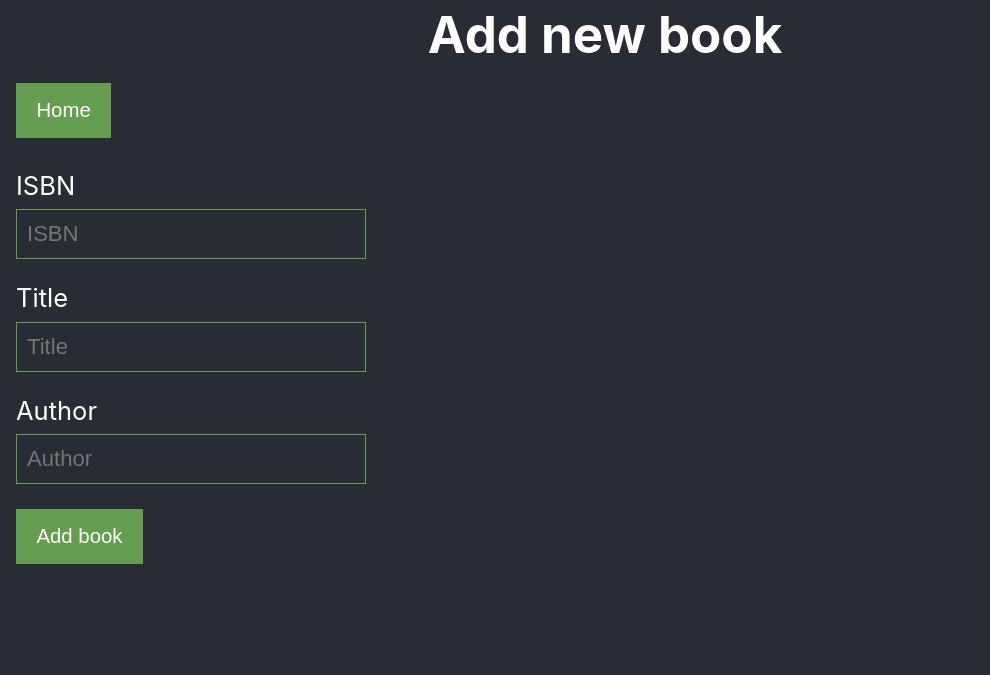
Test case: <AddBook /> › should add new book
The width and height of the screenshot is (990, 675).
Type "123123" into the field with test id "isbn" at x=191, y=234, box 16,209 -> 366,259
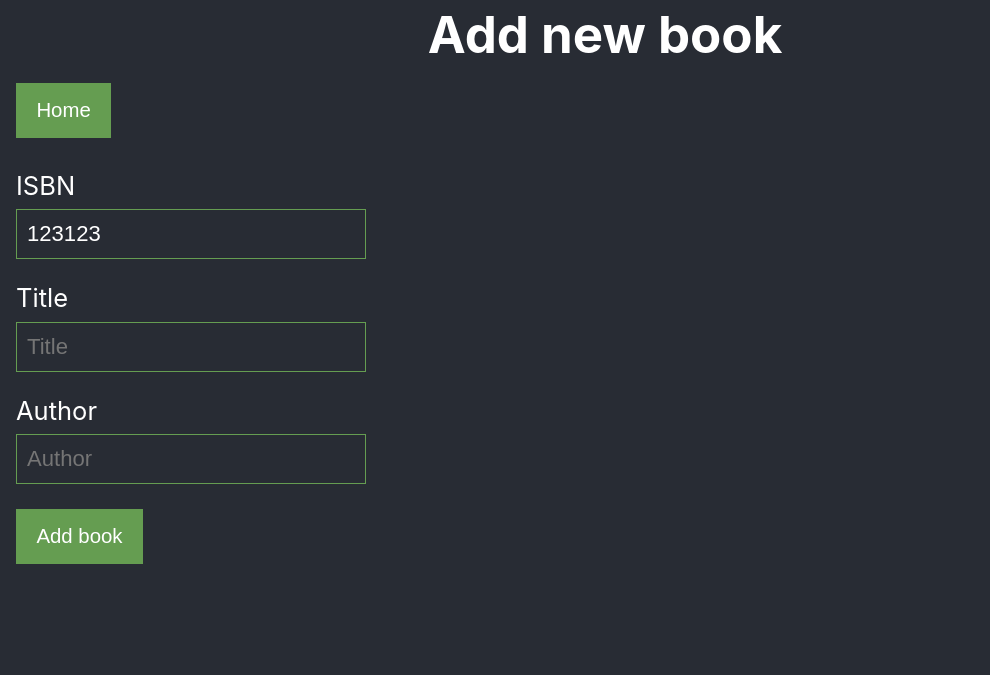
Type "Test Title" into the field with test id "title" at x=191, y=346, box 16,322 -> 366,372
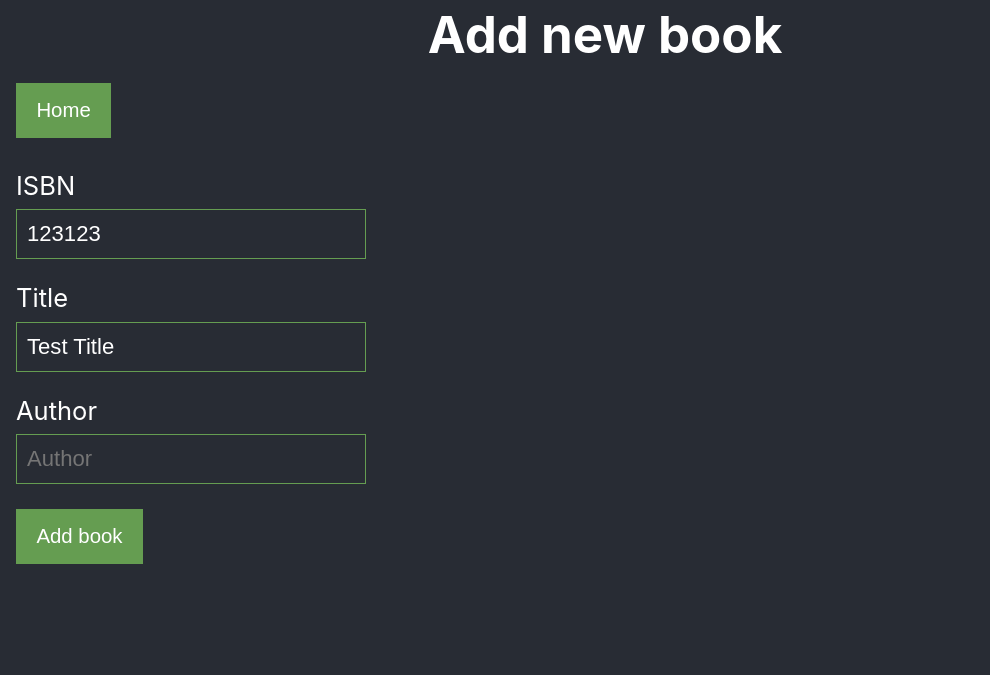
Type "Test Author" into the field with test id "author" at x=191, y=459, box 16,434 -> 366,484
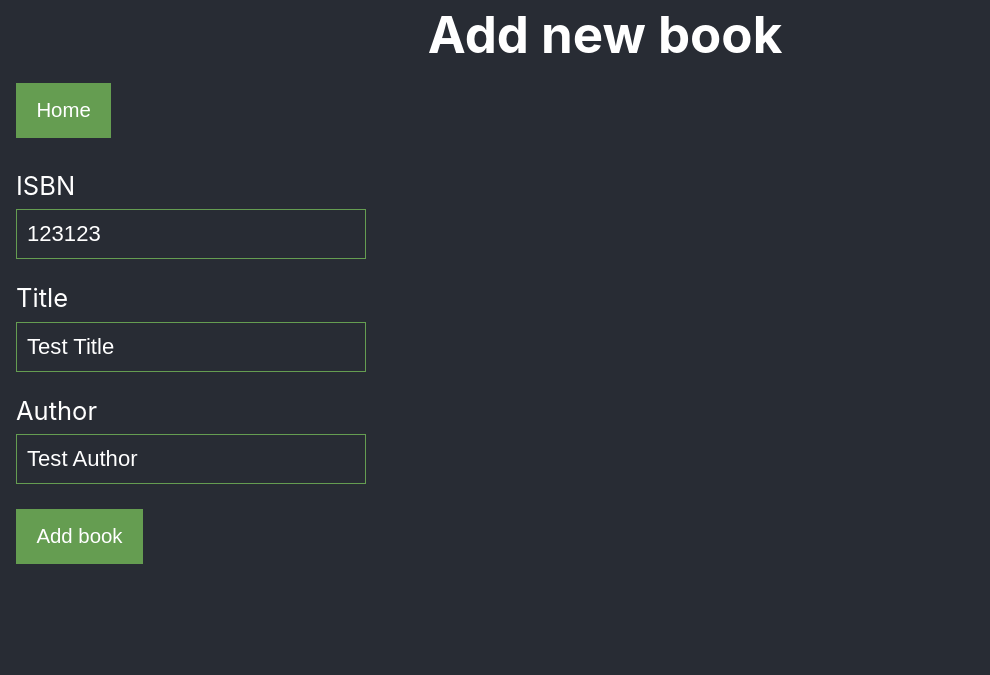
Click the button with test id "add-book-button" at x=80, y=537, box 16,509 -> 143,564
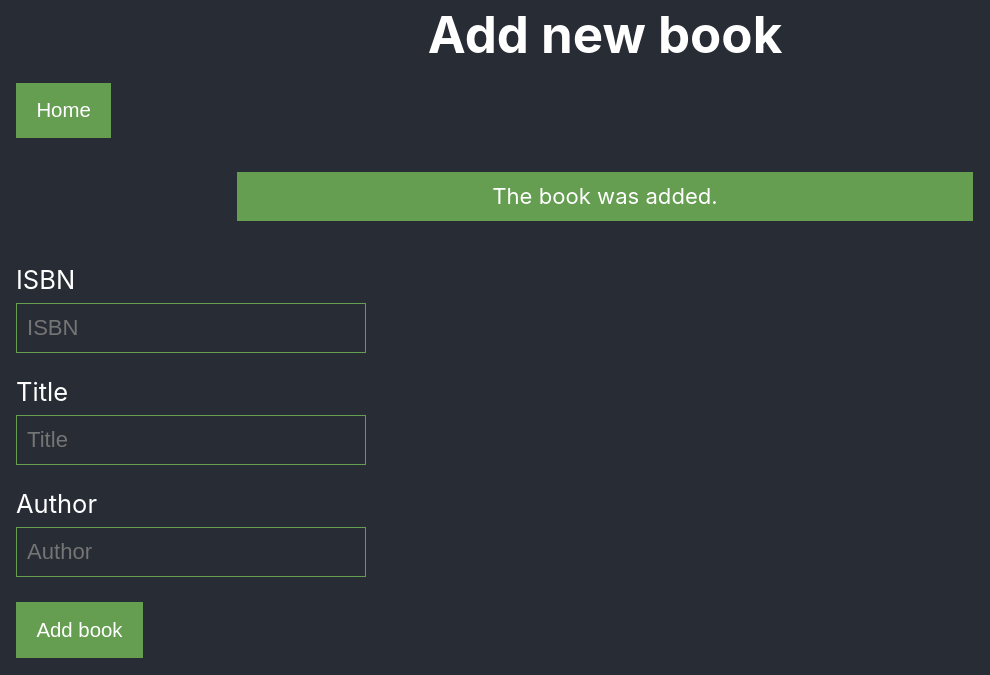
Result: the text "The book was added." is shown at 237,172 -> 973,221
Result: the field with test id "isbn" is empty at 16,303 -> 366,353
